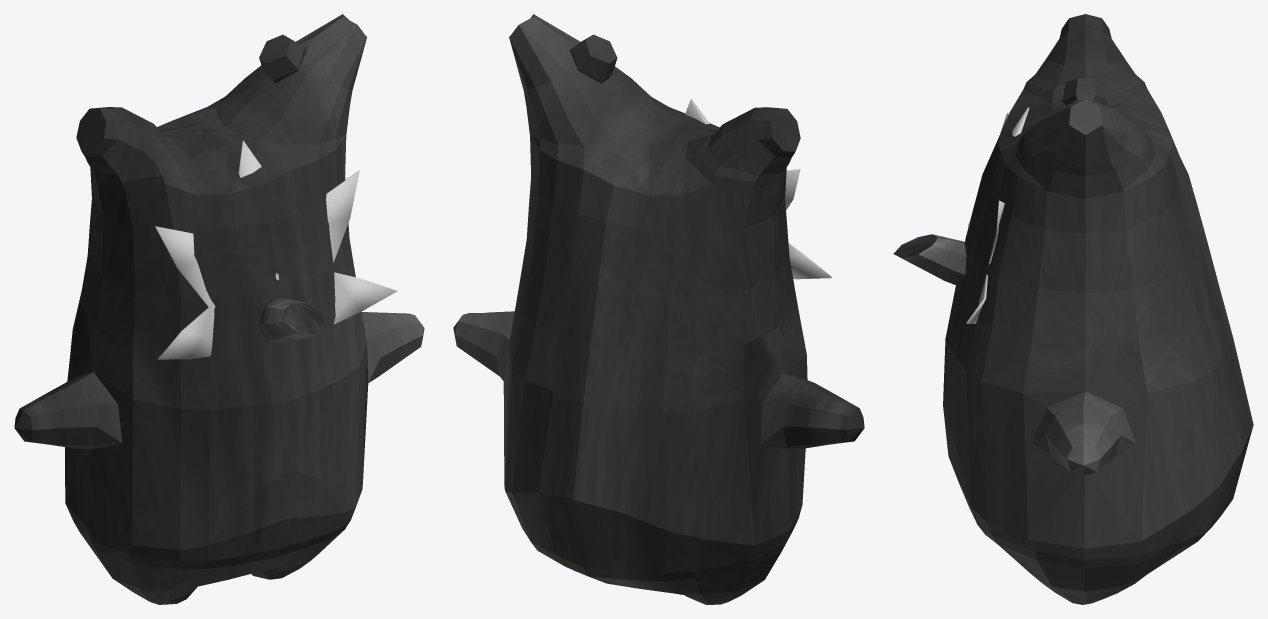
File: frame_0001.obj
3 renders of one model, left to right at view 1: azimuth 30°, elevation 25°; view 2: azimuth 150°, elevation 25°; view 3: azimuth 270°, elevation 25°, orthographic.
Visible parts, largest first — view 1: korok, leaf.003_柱体.013, nose.003_柱体.011; view 2: korok, leaf.003_柱体.013; view 3: korok, nose.003_柱体.011, leaf.003_柱体.013.
Part boxes in pixels (box(x1,y1,x2,y2)): korok: box(14, 14, 424, 604); leaf.003_柱体.013: box(155, 140, 397, 359); nose.003_柱体.011: box(258, 298, 324, 342); korok: box(453, 14, 864, 604); leaf.003_柱体.013: box(685, 98, 831, 279); korok: box(943, 14, 1253, 604); nose.003_柱体.011: box(893, 234, 966, 286); leaf.003_柱体.013: box(966, 107, 1029, 323).
Bounding box in the file's own units: 1.8 × 2.28 × 1.38.
